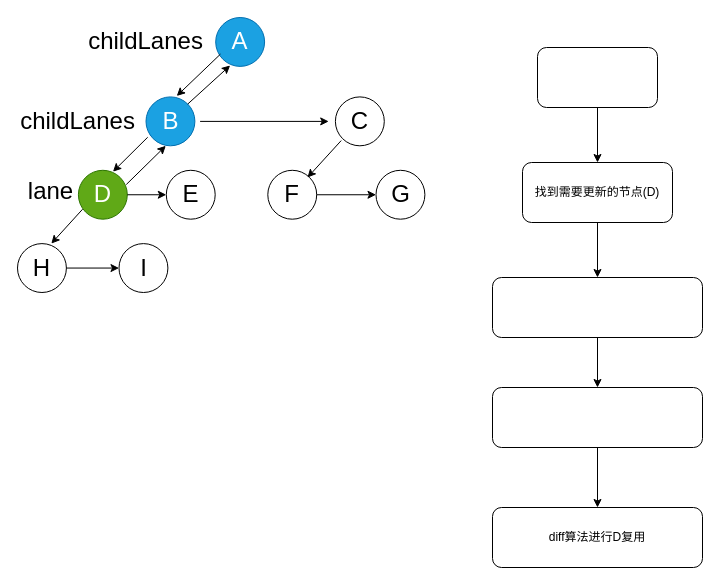
Image size: 720x585. Some labels were removed from this diagram. The centre of each missing label's shape, as x and y in pixels:
D组件重新渲染，得到新的Element: (597,307)
从Root开始向下调和: (597,77)
通过key找到新的Element 对应的oldFiber: (597,417)
